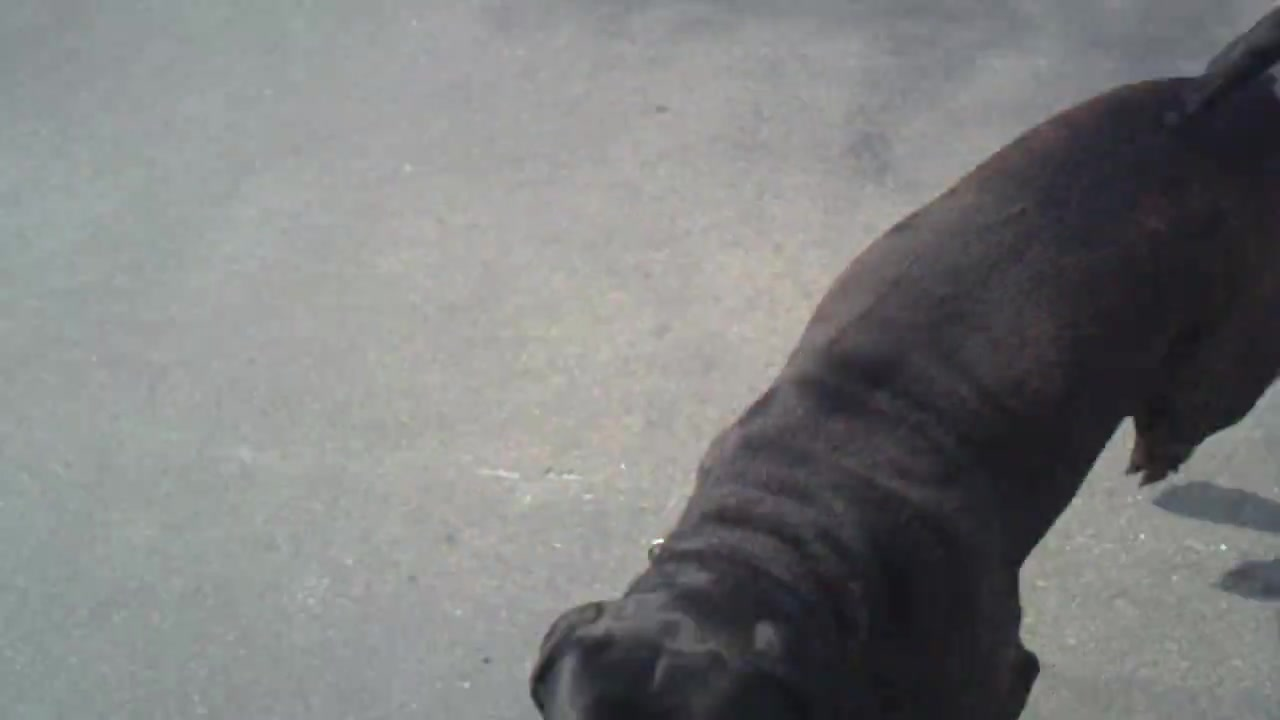dog: (528, 2, 1280, 720)
